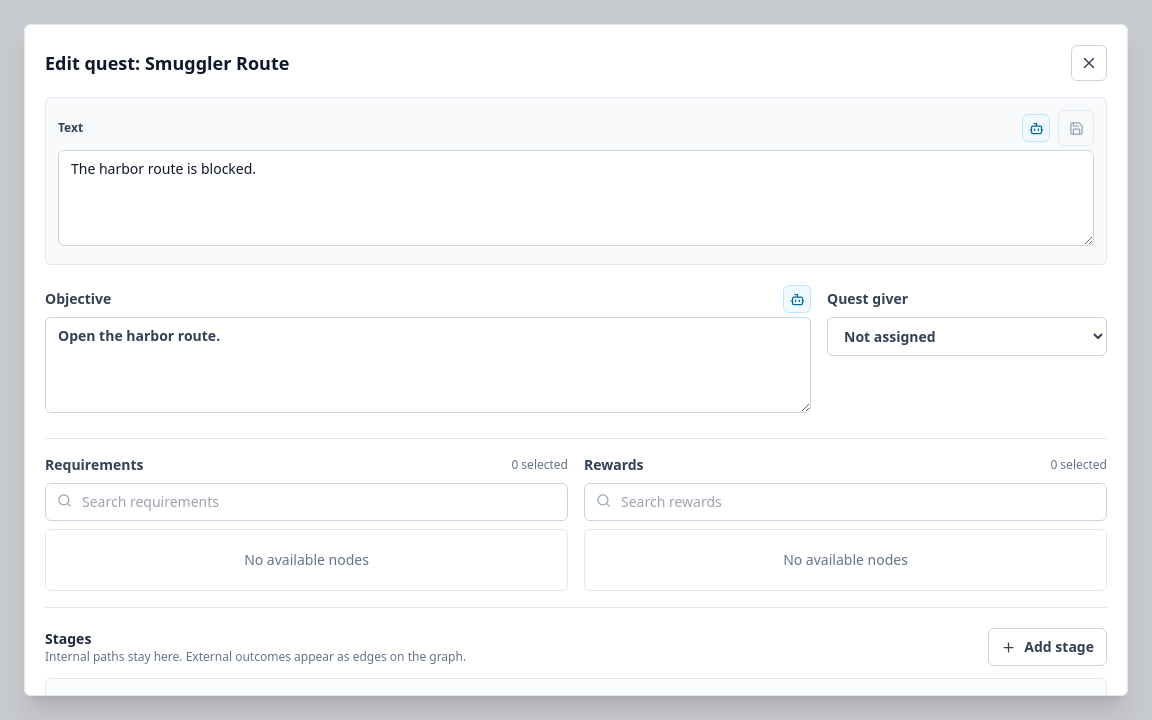
Test: QuestEditorDialog › edits common Text and exposes style recommendations for all quest prose
Step 1. Replace the text in the text box named "Text" with "The route can be reopened." → (576, 198), box [58,150,1094,246]
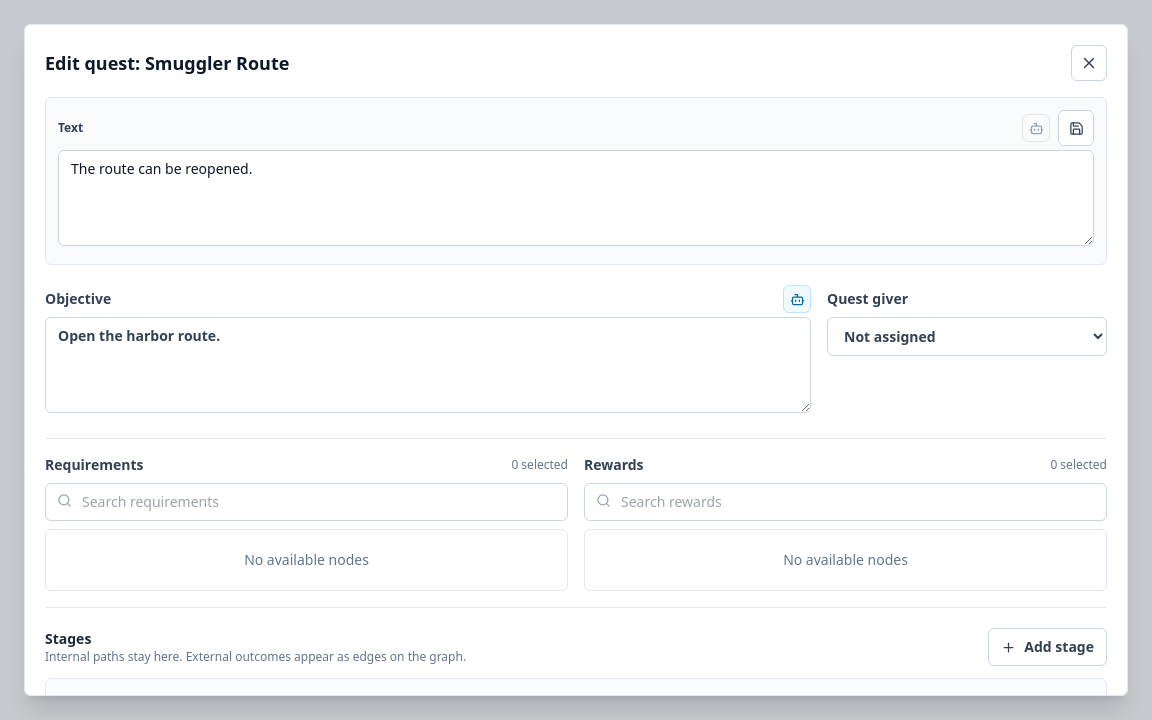
Step 2. Click the button named "Save: Text" → (1076, 128), box [1058,110,1094,146]
(page scrolled)
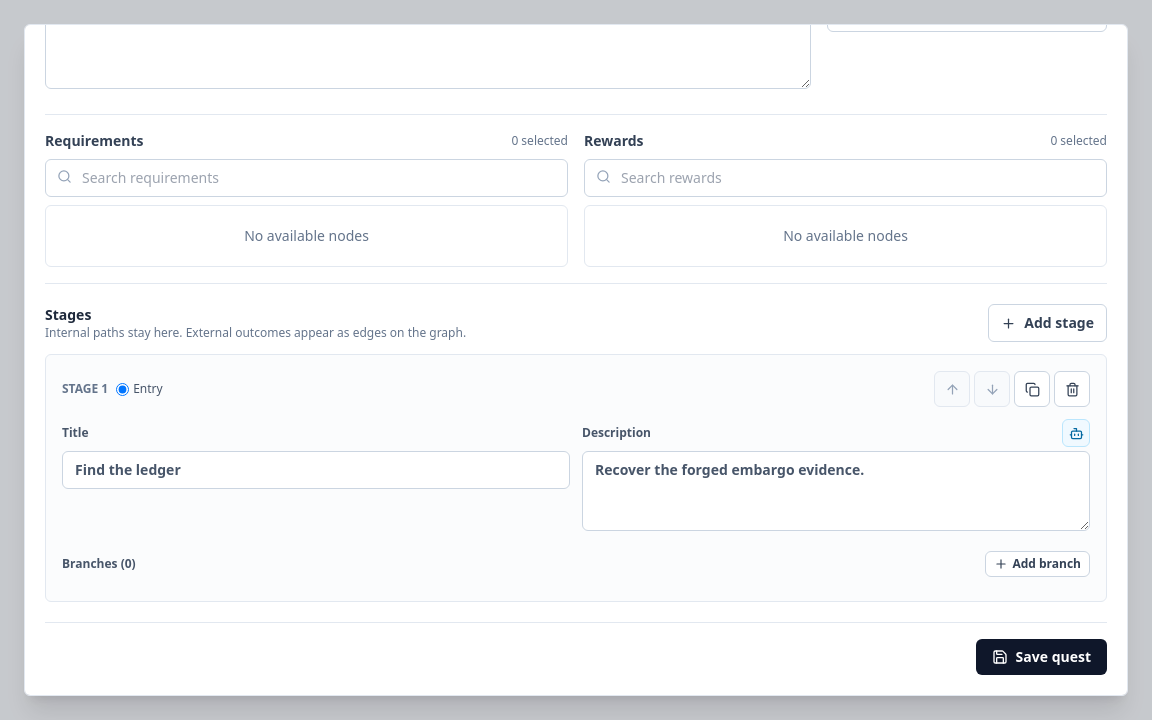
Now the button named "Get style recommendation: Stage description for Find the ledger" is shown, box [1062,419,1090,447]
Now the text "Title" is shown, box [62,424,89,441]
